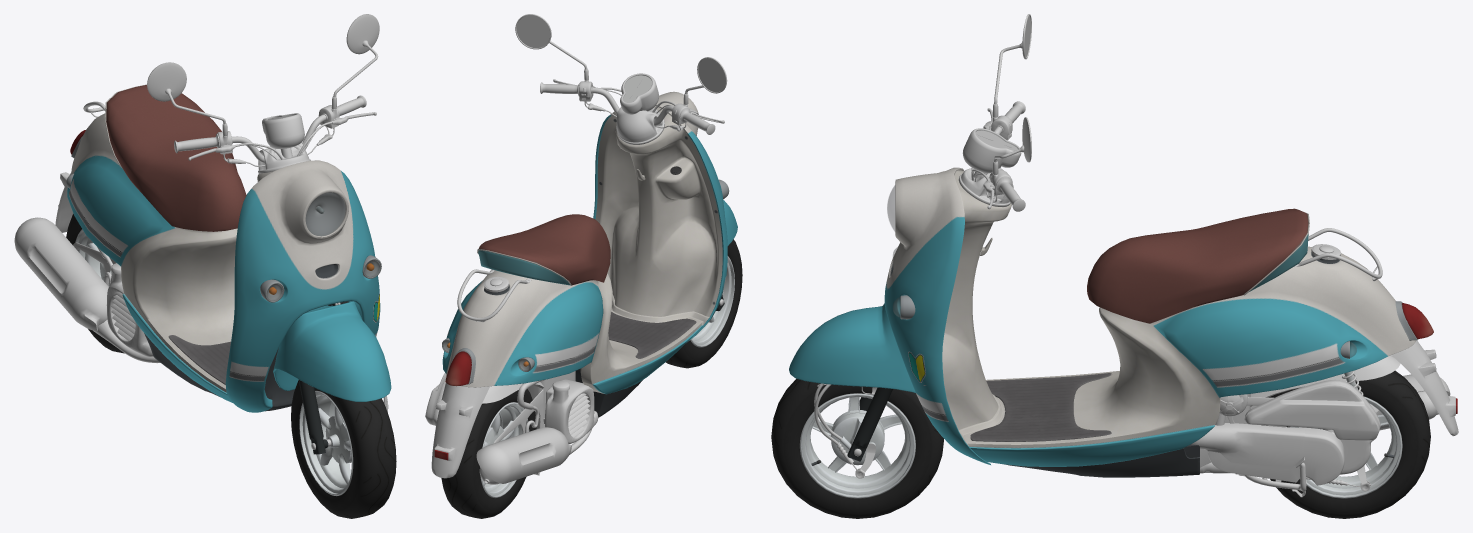
3 views of the same model, side by side, from view 1: azimuth 30°, elevation 25°; view 2: azimuth 150°, elevation 25°; view 3: azimuth 270°, elevation 25° (orthographic). The views are drawn at different scales.
Visible parts, largest first — view 1: Plane003_Main Body_0, Sphere001_Tire_0, Sphere001_Main Body_0, Plane003_SmallParts_0, Sphere001_SmallParts_0, Plane003_Lamp & Glass_0, Plane003_Glass_0, Plane003_Tire_0; view 2: Plane003_Main Body_0, Plane003_SmallParts_0, Sphere001_SmallParts_0, Plane003_Tire_0, Sphere001_Tire_0, Plane003_Lamp & Glass_0, Sphere001_Glass_0, Sphere001_Main Body_0; view 3: Plane003_Main Body_0, Plane003_SmallParts_0, Sphere001_Tire_0, Plane003_Tire_0, Sphere001_Main Body_0, Sphere001_SmallParts_0, Plane003_Lamp & Glass_0.
Boxes of the visible parts, x1,y1,x2,y2 form: Plane003_Main Body_0: (67, 84, 380, 412); Sphere001_Tire_0: (291, 380, 396, 518); Sphere001_Main Body_0: (273, 301, 391, 454); Plane003_SmallParts_0: (14, 101, 160, 363); Sphere001_SmallParts_0: (147, 14, 388, 449); Plane003_Lamp & Glass_0: (66, 130, 381, 302); Plane003_Glass_0: (67, 176, 381, 301); Plane003_Tire_0: (66, 214, 124, 353); Plane003_Main Body_0: (442, 91, 727, 417); Plane003_SmallParts_0: (425, 269, 598, 484); Sphere001_SmallParts_0: (515, 14, 727, 305); Plane003_Tire_0: (441, 389, 536, 518); Sphere001_Tire_0: (666, 239, 742, 368); Plane003_Lamp & Glass_0: (434, 179, 729, 460); Sphere001_Glass_0: (623, 75, 651, 102); Sphere001_Main Body_0: (716, 200, 737, 311); Plane003_Main Body_0: (884, 167, 1415, 477); Plane003_SmallParts_0: (1191, 228, 1458, 497); Sphere001_Tire_0: (771, 378, 943, 518); Plane003_Tire_0: (1261, 370, 1430, 518); Sphere001_Main Body_0: (789, 303, 915, 461); Sphere001_SmallParts_0: (814, 14, 1031, 478); Plane003_Lamp & Glass_0: (900, 295, 1457, 413).
Size of the model in its own units: 0.6794 by 1.16 by 1.62.
